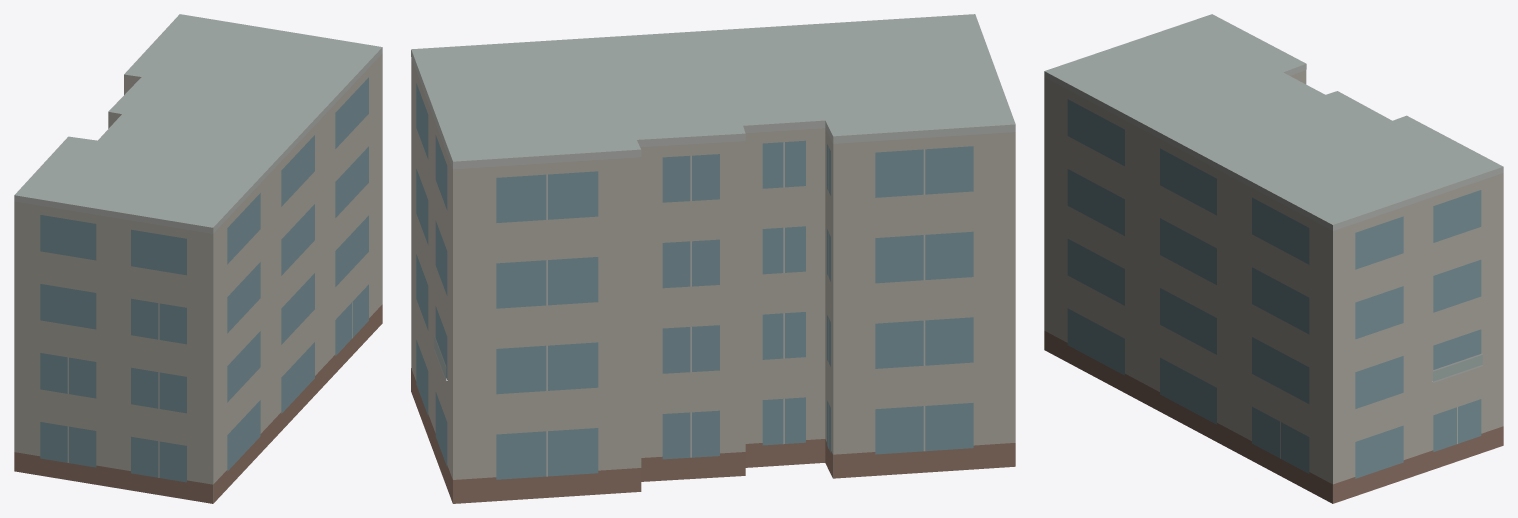
The model's file is survey-upis-32746880.glb.
3 views of the same model, side by side, from view 1: azimuth 30°, elevation 25°; view 2: azimuth 150°, elevation 25°; view 3: azimuth 270°, elevation 25° (orthographic). The views are drawn at different scales.
Visible parts, largest first — view 1: survey-upis-32746880.tmp; view 2: survey-upis-32746880.tmp; view 3: survey-upis-32746880.tmp.
Boxes of the visible parts, x1,y1,x2,y2 form: survey-upis-32746880.tmp: (14, 14, 382, 503); survey-upis-32746880.tmp: (411, 14, 1015, 503); survey-upis-32746880.tmp: (1044, 14, 1503, 503).
Bounding box in the file's own units: 18.02 × 11.1 × 16.58.
